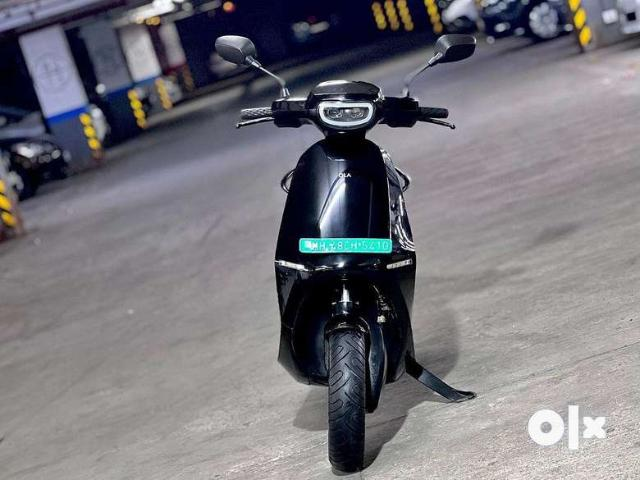Indian_Number_Plate: (301, 239, 390, 252)
